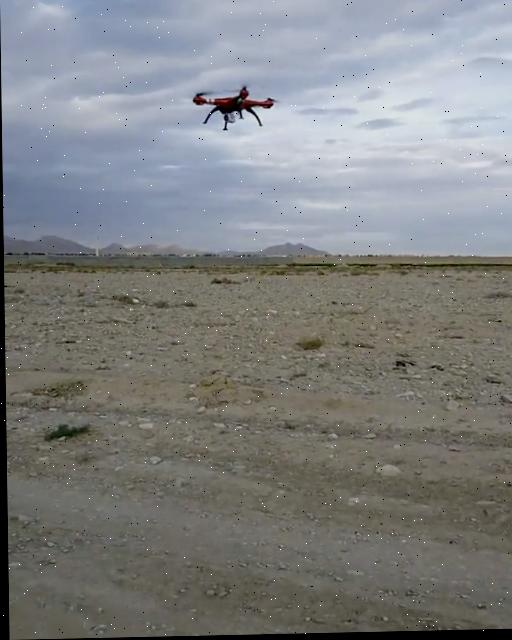drone: (186, 85, 279, 135)
